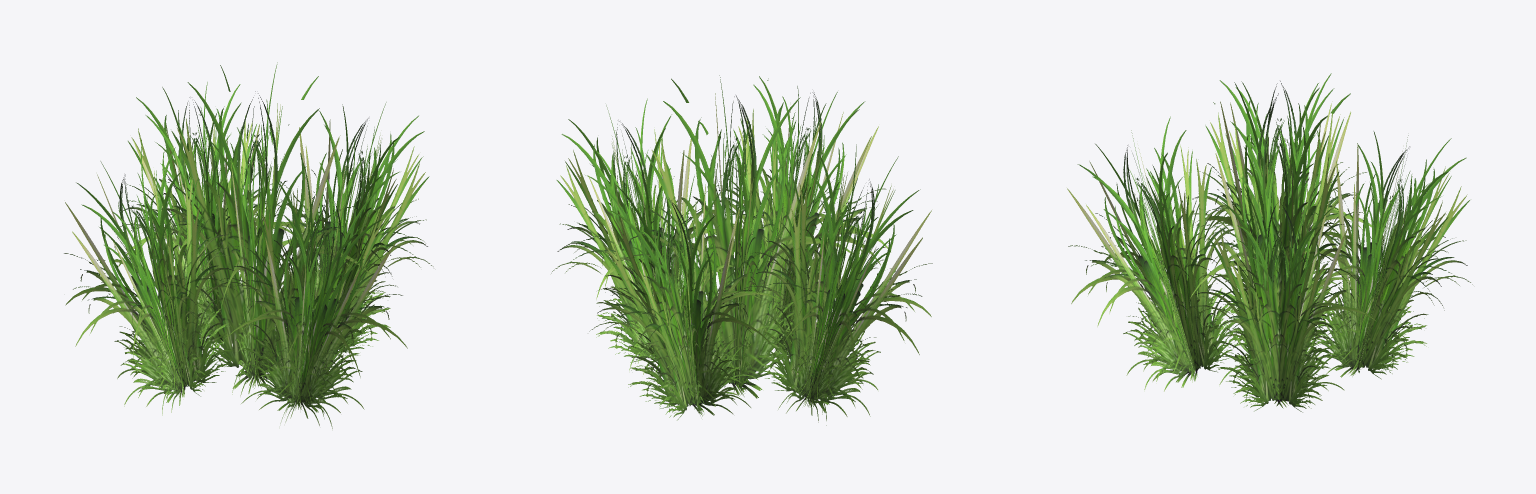
The picture shows the model from 3 angles, left to right: view 1: azimuth 30°, elevation 25°; view 2: azimuth 150°, elevation 25°; view 3: azimuth 270°, elevation 25°; orthographic projection. The views are drawn at different scales.
Parts seen in each view (by area): view 1: grassAS_01; view 2: grassAS_01; view 3: grassAS_01.
Boxes of the visible parts, x1,y1,x2,y2 form: grassAS_01: [64, 62, 433, 428]; grassAS_01: [551, 75, 932, 425]; grassAS_01: [1067, 73, 1472, 412].
Bounding box in the file's own units: 0.4285 × 0.3162 × 0.4285.
Materials: 1 (1 with a texture image).
